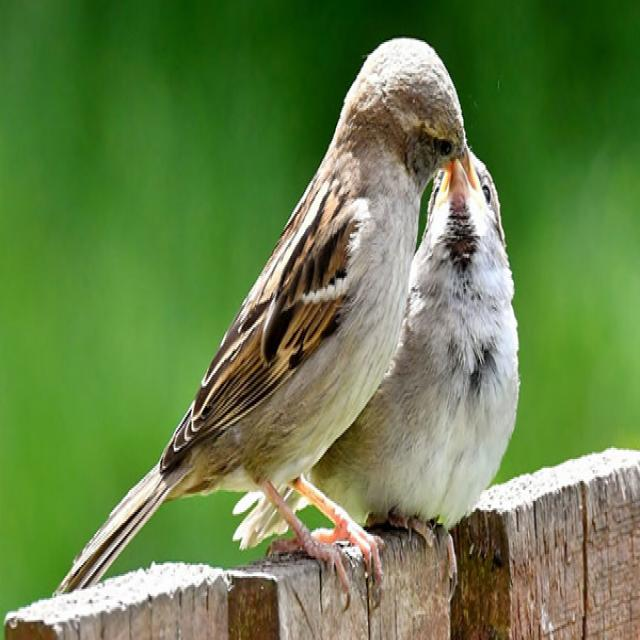bird: (44, 33, 465, 604), (377, 107, 522, 530)
